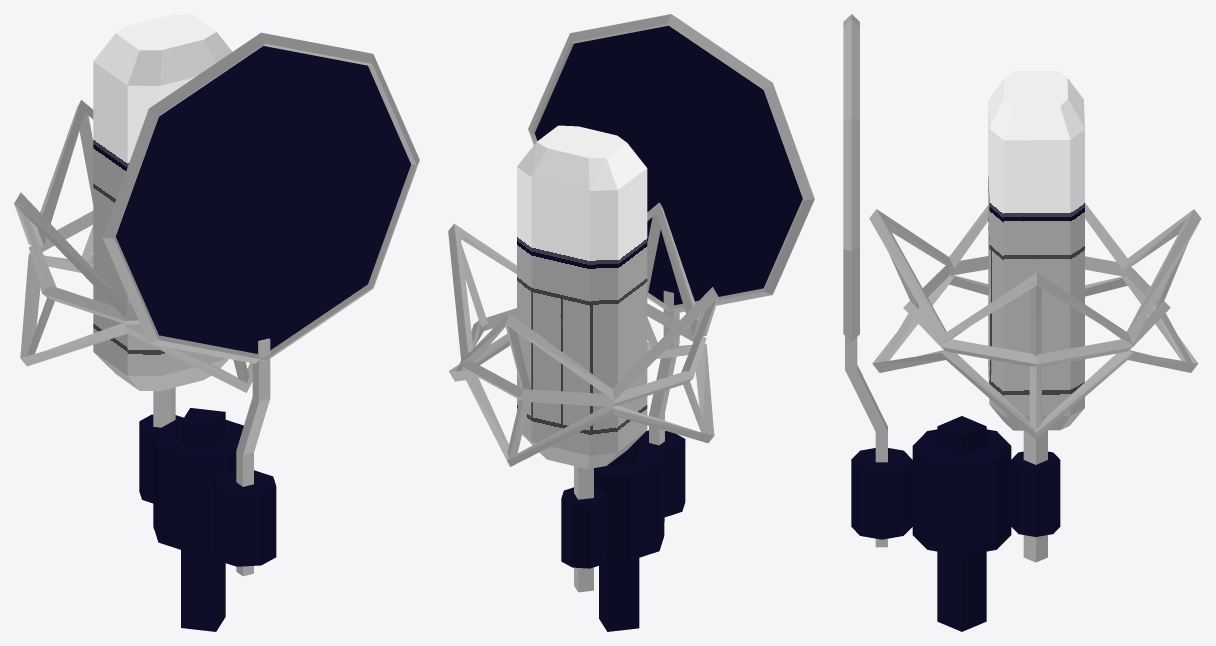
The model's file is ps2_save-icons_recdokidokiseiyuparadise.glb.
3 renders of one model, left to right at view 1: azimuth 30°, elevation 25°; view 2: azimuth 150°, elevation 25°; view 3: azimuth 270°, elevation 25°, orthographic. The views are drawn at different scales.
Parts seen in each view (by area): view 1: SAVE.ICO; view 2: SAVE.ICO; view 3: SAVE.ICO.
Part boxes in pixels (x1,y1,x2,y2): SAVE.ICO: (14, 14, 419, 631); SAVE.ICO: (448, 14, 814, 631); SAVE.ICO: (843, 14, 1201, 631).
Size of the model in its own units: 2.04 by 3.88 by 2.09.
1 material, 1 textured.
